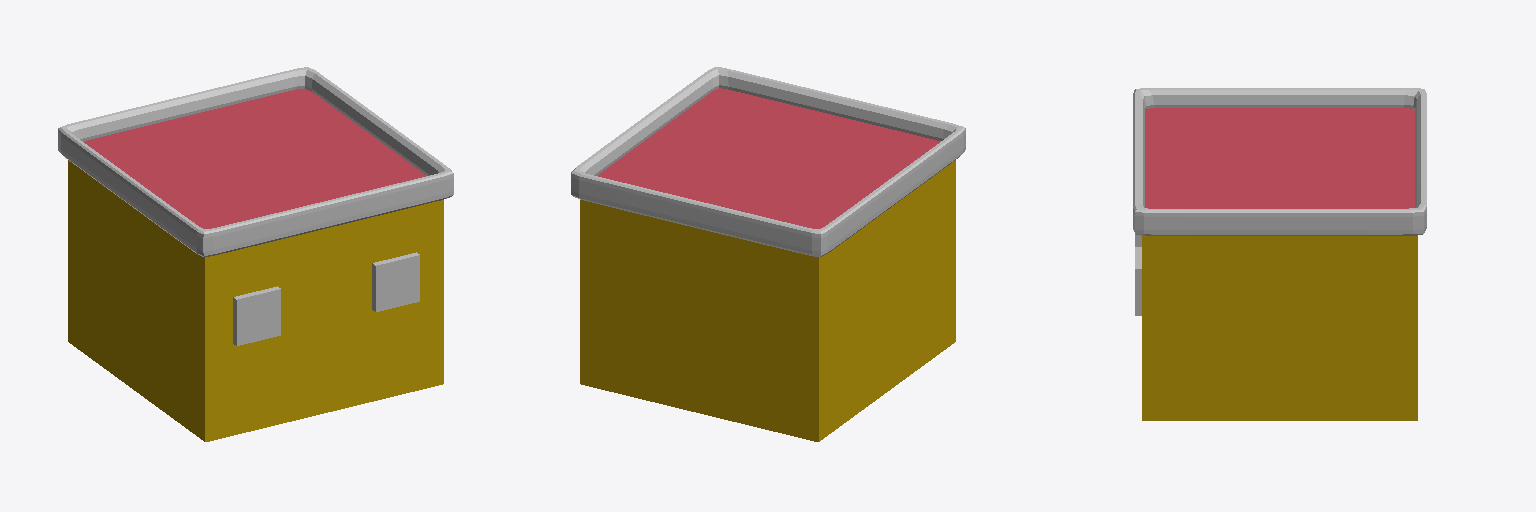
File: casa2.obj
3 views of the same model, side by side, from view 1: azimuth 30°, elevation 25°; view 2: azimuth 150°, elevation 25°; view 3: azimuth 270°, elevation 25° (orthographic).
Visible parts, largest first — view 1: House_Cube.001, Roof_Cube.000, windows_Cube; view 2: House_Cube.001, Roof_Cube.000; view 3: House_Cube.001, Roof_Cube.000, windows_Cube.
Boxes of the visible parts, <box> form: House_Cube.001: <box>68,89,443,441</box>; Roof_Cube.000: <box>58,67,453,256</box>; windows_Cube: <box>233,252,419,345</box>; House_Cube.001: <box>580,88,955,441</box>; Roof_Cube.000: <box>571,67,965,256</box>; House_Cube.001: <box>1142,108,1417,420</box>; Roof_Cube.000: <box>1133,88,1426,235</box>; windows_Cube: <box>1135,234,1141,315</box>.
Bounding box in the file's own units: 2.31 × 1.85 × 2.31.